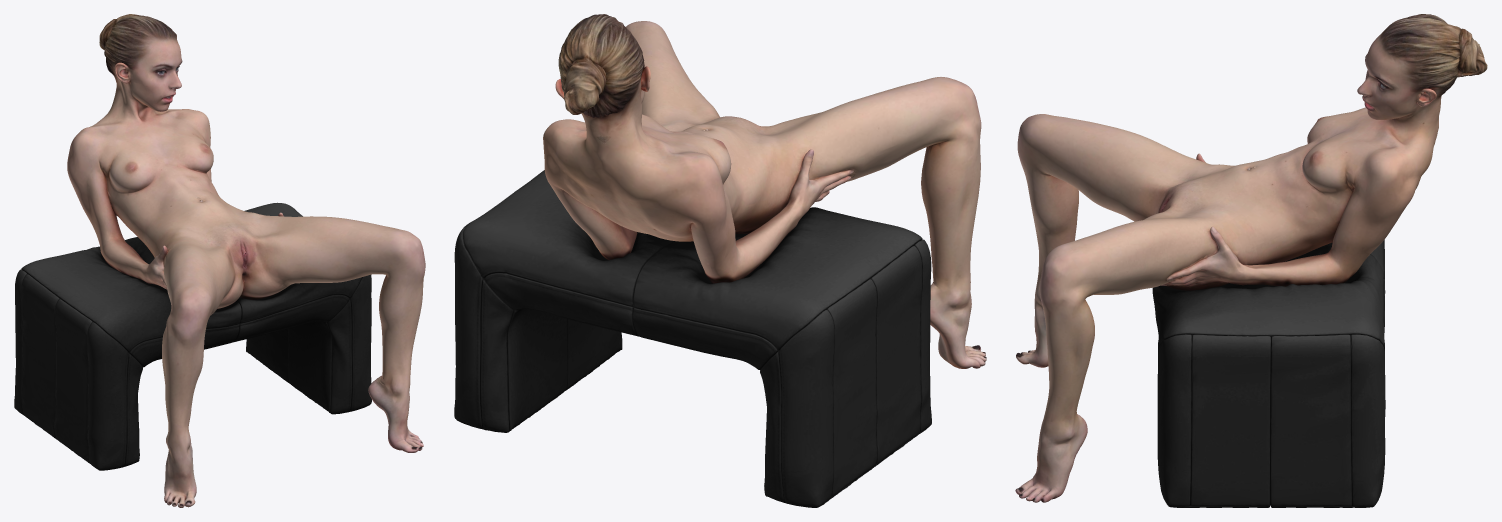
3 renders of one model, left to right at view 1: azimuth 30°, elevation 25°; view 2: azimuth 150°, elevation 25°; view 3: azimuth 270°, elevation 25°, orthographic. The views are drawn at different scales.
Parts seen in each view (by area): view 1: 18_LOD2_0, 18sofa_0; view 2: 18sofa_0, 18_LOD2_0; view 3: 18_LOD2_0, 18sofa_0.
Part boxes in pixels (box(x1,y1,x2,y2)): 18_LOD2_0: box(67, 14, 425, 507); 18sofa_0: box(14, 202, 371, 470); 18sofa_0: box(454, 170, 931, 507); 18_LOD2_0: box(543, 14, 986, 368); 18_LOD2_0: box(1015, 14, 1487, 502); 18sofa_0: box(1152, 240, 1385, 507).
Size of the model in its own units: 1.21 by 1.4 by 1.44.
Materials: 2 (2 with a texture image).
